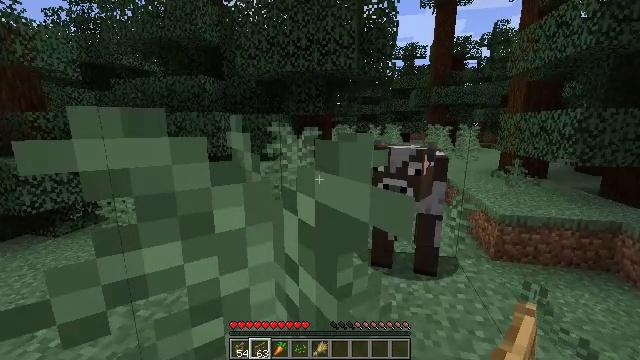cow: (366, 133, 451, 281)
